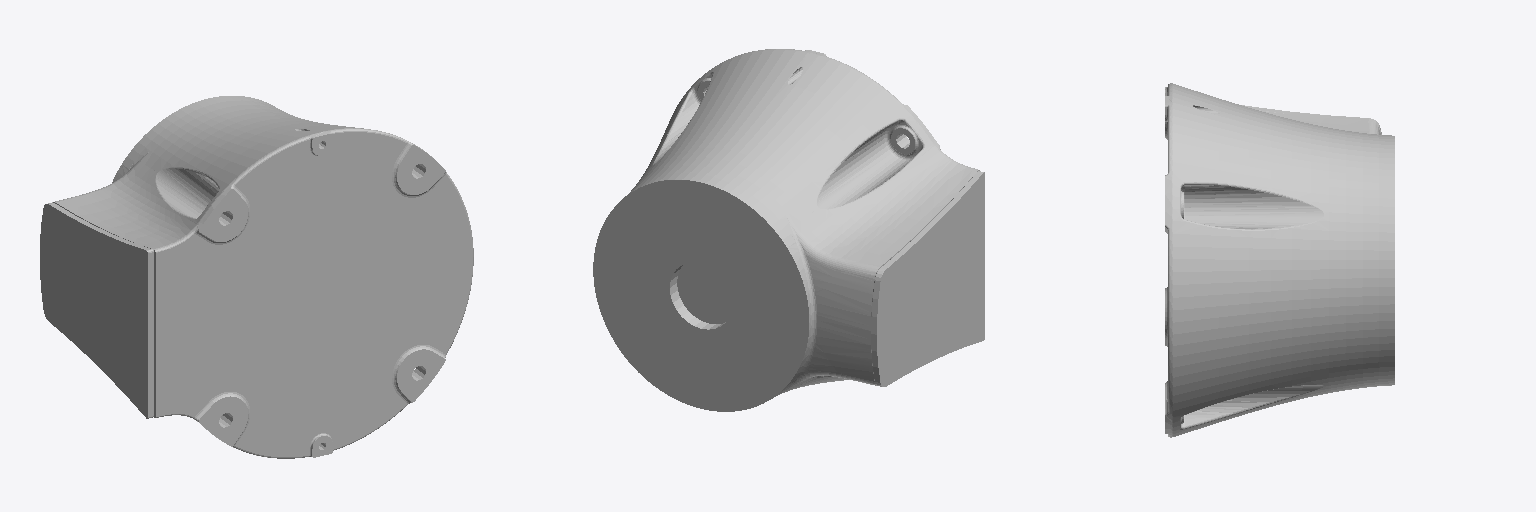
File: lbr_iiwa_14_r820_part_1.obj
The picture shows the model from 3 angles: view 1: azimuth 30°, elevation 25°; view 2: azimuth 150°, elevation 25°; view 3: azimuth 270°, elevation 25°; orthographic projection.
Parts seen in each view (by area): view 1: mesh 1 LBR IIWA 14 R820.sldasm-Part-1; view 2: mesh 1 LBR IIWA 14 R820.sldasm-Part-1; view 3: mesh 1 LBR IIWA 14 R820.sldasm-Part-1.
Part boxes in pixels (left/top/right/bottom): mesh 1 LBR IIWA 14 R820.sldasm-Part-1: left=40, top=96, right=473, bottom=458; mesh 1 LBR IIWA 14 R820.sldasm-Part-1: left=593, top=49, right=984, bottom=411; mesh 1 LBR IIWA 14 R820.sldasm-Part-1: left=1165, top=83, right=1394, bottom=437.
Size of the model in its own units: 0.2574 by 0.2429 by 0.1575.